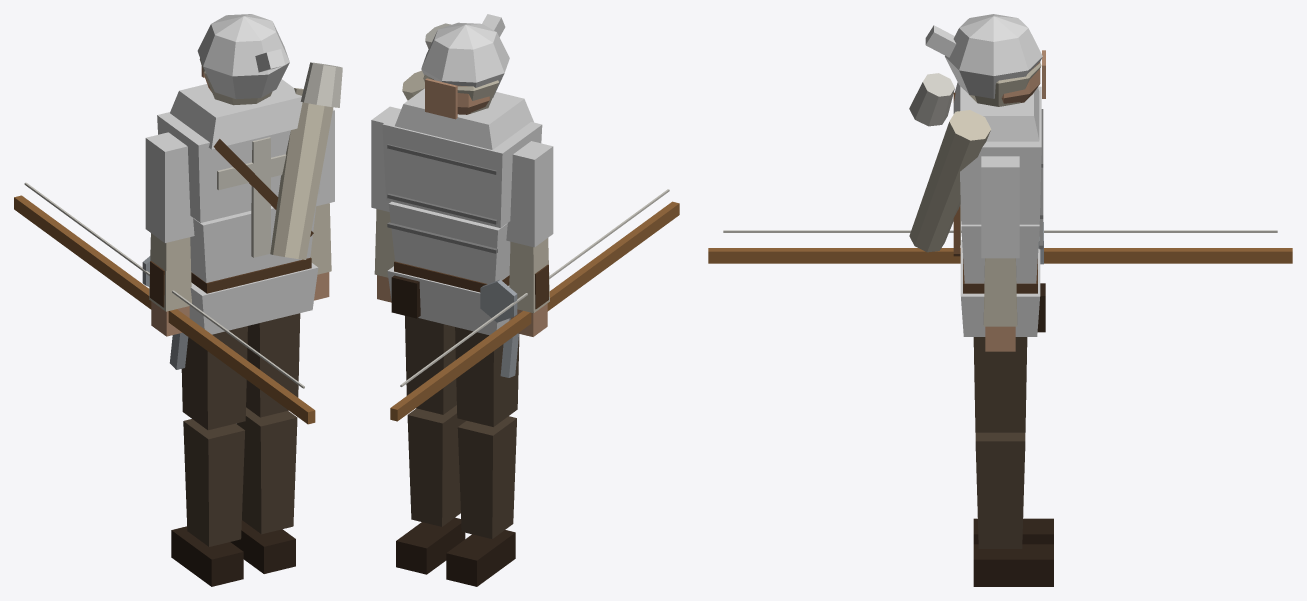
Rendered from soldier_med_archer_lod0.glb.
3 views of the same model, side by side, from view 1: azimuth 30°, elevation 25°; view 2: azimuth 150°, elevation 25°; view 3: azimuth 270°, elevation 25° (orthographic). The views are drawn at different scales.
Visible parts, largest first — view 1: med_archer_lod0_static; view 2: med_archer_lod0_static; view 3: med_archer_lod0_static.
Boxes of the visible parts, box(x1,y1,x2,y2) form: med_archer_lod0_static: box(14, 14, 342, 586); med_archer_lod0_static: box(371, 14, 679, 586); med_archer_lod0_static: box(708, 14, 1292, 586).
Bounding box in the file's own units: 0.585 × 1.82 × 1.75.
